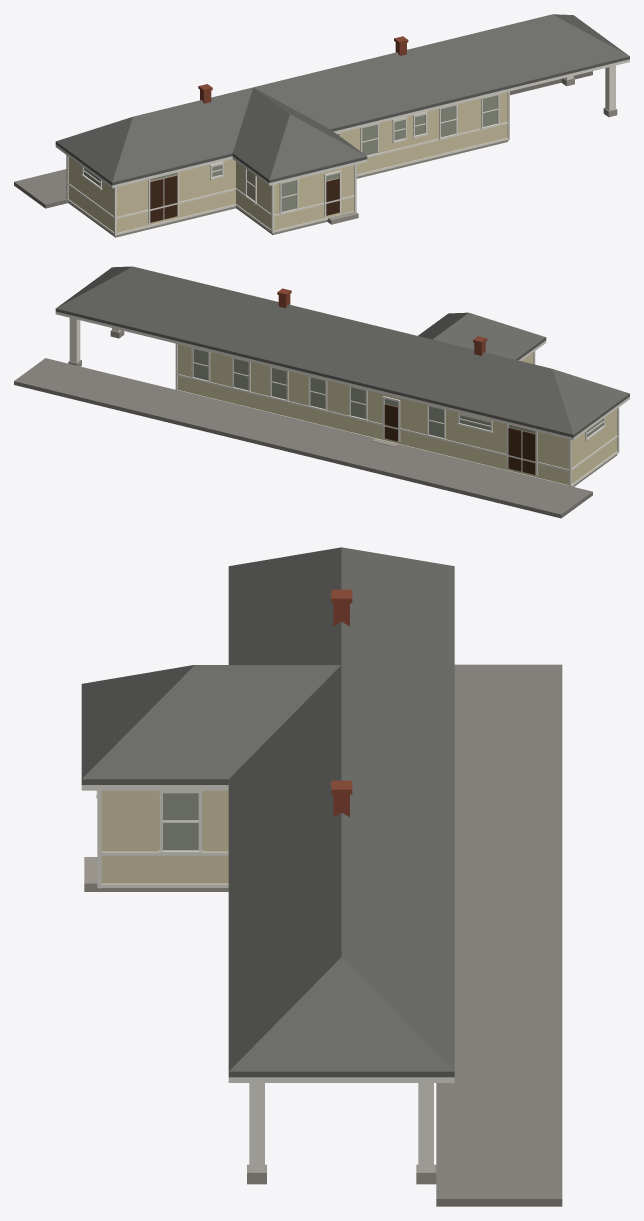
Rendered from Horicon_Depot.glb.
3 renders of one model, top to bottom at view 1: azimuth 30°, elevation 25°; view 2: azimuth 150°, elevation 25°; view 3: azimuth 270°, elevation 25°, orthographic. The views are drawn at different scales.
Visible parts, largest first — view 1: roof, walls, trim, glass, sash, platform, doors, foundation, chimney; view 2: roof, platform, walls, trim, glass, sash, doors, chimney, foundation; view 3: roof, platform, walls, trim, glass, foundation, chimney, sash.
Boxes of the visible parts, x1,y1,x2,y2 form: roof: (55, 14, 629, 185); walls: (68, 92, 507, 232); trim: (55, 59, 629, 235); glass: (84, 95, 497, 211); sash: (81, 94, 500, 214); platform: (14, 71, 592, 208); doors: (150, 175, 339, 222); foundation: (68, 78, 617, 237); chimney: (198, 36, 408, 103); roof: (55, 266, 629, 437); platform: (14, 358, 592, 518); walls: (178, 344, 616, 485); trim: (55, 311, 629, 486); glass: (193, 349, 603, 437); sash: (191, 347, 605, 440); doors: (384, 404, 535, 474); chimney: (277, 288, 487, 355); foundation: (68, 330, 617, 486); roof: (81, 547, 454, 1077); platform: (436, 664, 562, 1206); walls: (101, 790, 228, 883); trim: (81, 785, 454, 1171); glass: (163, 793, 198, 850); foundation: (84, 857, 436, 1184); chimney: (331, 589, 352, 817); sash: (96, 790, 202, 854).
Size of the model in its own units: 1.26 by 0.2333 by 0.4808.
